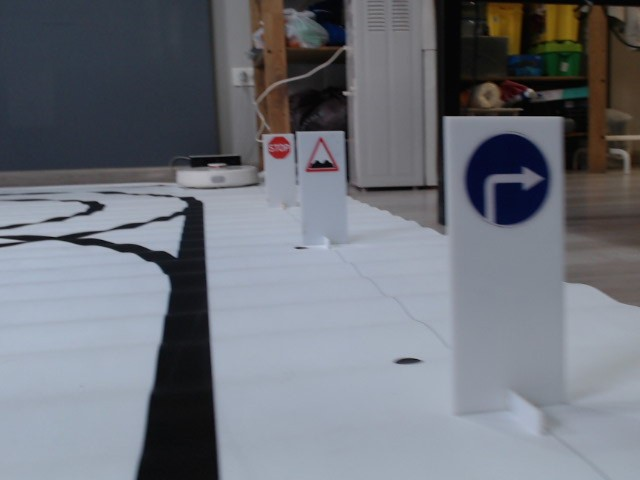Nerov: (302, 137, 341, 175)
Right: (465, 131, 551, 227)
Stop: (266, 135, 292, 160)
